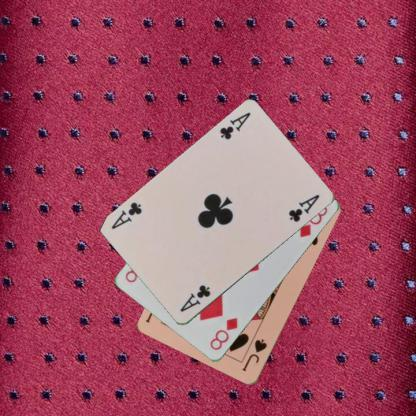8d: (207, 315, 239, 352)
Ac: (177, 282, 212, 314), (217, 110, 252, 141)
Js: (239, 336, 269, 374)
